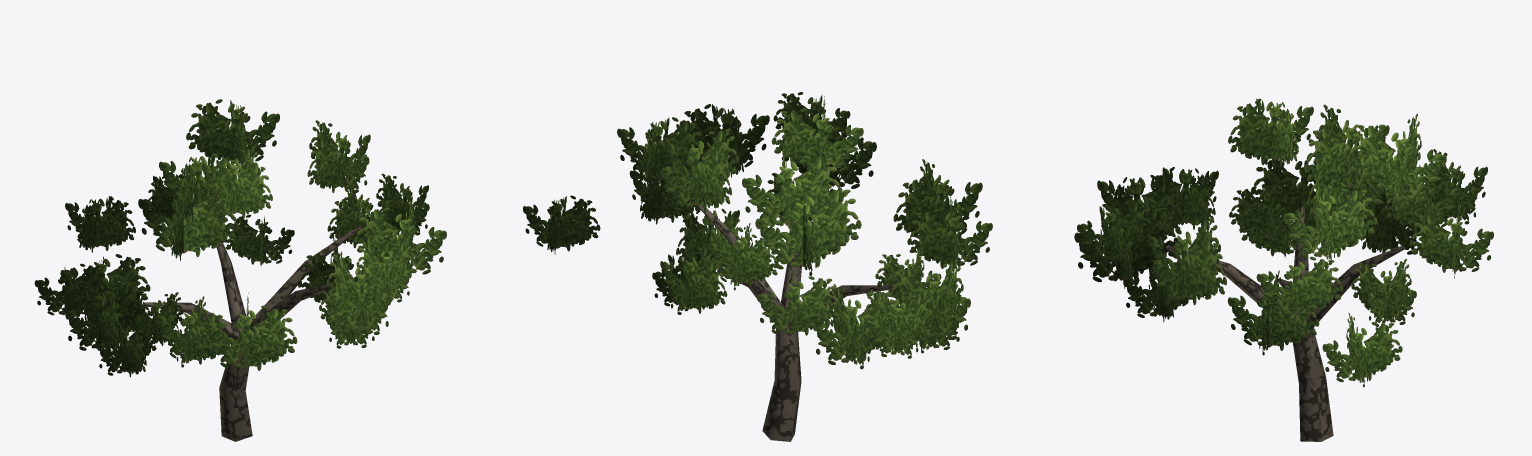
File: oak1_lod1.fbx
3 views of the same model, side by side, from view 1: azimuth 30°, elevation 25°; view 2: azimuth 150°, elevation 25°; view 3: azimuth 270°, elevation 25° (orthographic). The views are drawn at different scales.
Parts seen in each view (by area): view 1: oak1_lod1; view 2: oak1_lod1; view 3: oak1_lod1.
Boxes of the visible parts, x1,y1,x2,y2 form: oak1_lod1: (34, 99, 446, 441); oak1_lod1: (523, 92, 992, 441); oak1_lod1: (1074, 98, 1493, 441).
Size of the model in its own units: 12.79 by 10.06 by 10.94.
2 materials, 2 textured.
